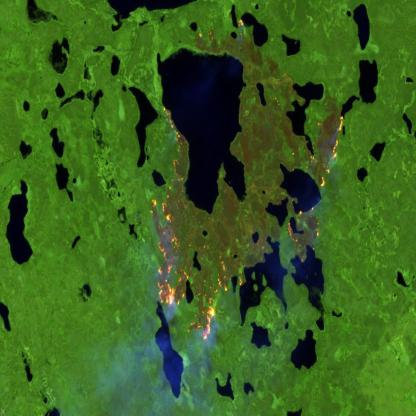fire: (145, 112, 348, 342)
